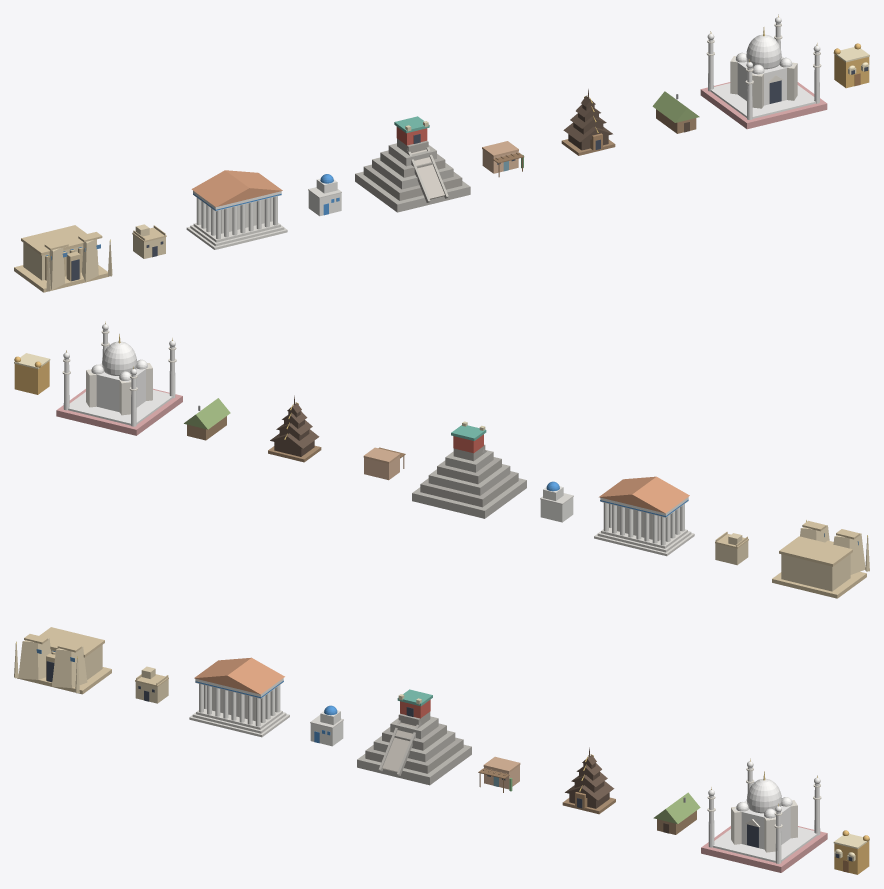
Rendered from styles2.glb.
3 views of the same model, one above another, from view 1: azimuth 30°, elevation 25°; view 2: azimuth 150°, elevation 25°; view 3: azimuth 330°, elevation 25° (orthographic).
Visible parts, largest first — view 1: cTempleGR_w.001, cMahalIN_Cube, cMahalIN_Cube.001, cPyramidMX_Cube, cTempleEG_Cube.008, cPyramidMX_Cube.001, cMahalIN_Sphere, cMahalIN_Cube.002, cPyramidMX_Cube.002, haveliIN_Cube, longhouseNO_w, cPyramidMX_Cube.006 (+7 smaller); view 2: cTempleGR_w.001, cTempleEG_Cube.007, cPyramidMX_Cube, cMahalIN_Cube, cTempleEG_Cube.008, cMahalIN_Cube.001, cMahalIN_Cube.002, cPyramidMX_Cube.001, cPyramidMX_Cube.002, cMahalIN_Sphere, haveliIN_Cube, cPyramidMX_Cube.003 (+8 smaller); view 3: cTempleGR_w.001, cMahalIN_Cube, cMahalIN_Cube.001, cPyramidMX_Cube, cTempleEG_Cone.003, cTempleEG_Cone, cPyramidMX_Cube.001, cMahalIN_Sphere, cMahalIN_Cube.002, cTempleEG_Cube.008, cPyramidMX_Cube.002, haveliIN_Cube (+9 smaller).
Boxes of the visible parts, box(x1,y1,x2,y2) form: cTempleGR_w.001: box(191, 170, 282, 206); cMahalIN_Cube: box(700, 82, 827, 129); cMahalIN_Cube.001: box(710, 83, 815, 118); cPyramidMX_Cube: box(355, 171, 470, 212); cTempleEG_Cube.008: box(21, 225, 86, 255); cPyramidMX_Cube.001: box(363, 164, 462, 200); cMahalIN_Sphere: box(746, 34, 781, 69); cMahalIN_Cube.002: box(733, 56, 794, 105); cPyramidMX_Cube.002: box(372, 157, 453, 189); haveliIN_Cube: box(834, 54, 869, 88); longhouseNO_w: box(652, 91, 699, 122); cPyramidMX_Cube.006: box(411, 149, 444, 199); cTempleGR_w.001: box(599, 476, 689, 513); cTempleEG_Cube.007: box(781, 554, 850, 591); cPyramidMX_Cube: box(412, 478, 526, 518); cMahalIN_Cube: box(56, 388, 182, 435); cTempleEG_Cube.008: box(779, 536, 852, 566); cMahalIN_Cube.001: box(68, 389, 172, 425); cMahalIN_Cube.002: box(89, 363, 149, 412); cPyramidMX_Cube.001: box(420, 471, 518, 507); cPyramidMX_Cube.002: box(428, 464, 510, 495); cMahalIN_Sphere: box(102, 341, 137, 375); haveliIN_Cube: box(14, 361, 49, 394); cPyramidMX_Cube.003: box(437, 457, 501, 484); cTempleGR_w.001: box(194, 657, 284, 694); cMahalIN_Cube: box(701, 826, 827, 872); cMahalIN_Cube.001: box(712, 827, 817, 862); cPyramidMX_Cube: box(357, 744, 471, 785); cTempleEG_Cone.003: box(52, 646, 87, 688); cTempleEG_Cone: box(18, 638, 51, 679); cPyramidMX_Cube.001: box(365, 737, 463, 773); cMahalIN_Sphere: box(746, 778, 781, 813); cMahalIN_Cube.002: box(733, 800, 793, 849); cTempleEG_Cube.008: box(39, 627, 104, 657); cPyramidMX_Cube.002: box(373, 730, 455, 762); haveliIN_Cube: box(834, 841, 869, 874).
Size of the model in its own units: 114 by 9.91 by 11.59.
